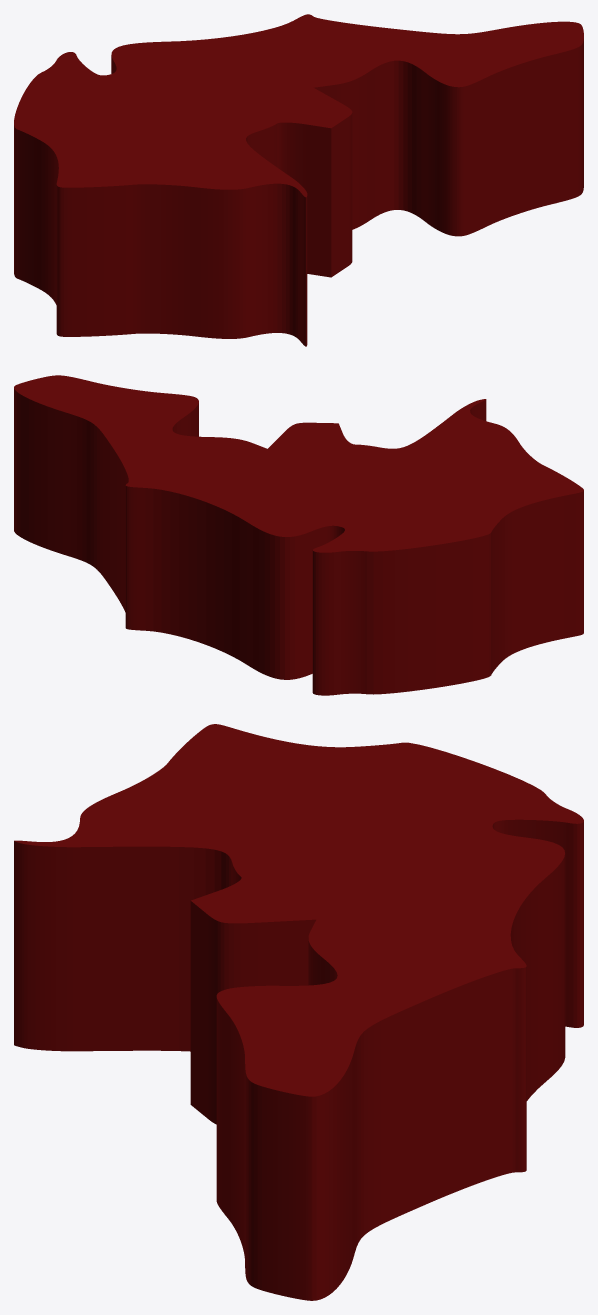
3 renders of one model, top to bottom at view 1: azimuth 30°, elevation 25°; view 2: azimuth 150°, elevation 25°; view 3: azimuth 270°, elevation 25°, orthographic. The views are drawn at different scales.
Parts seen in each view (by area): view 1: Curve.018_path4212; view 2: Curve.018_path4212; view 3: Curve.018_path4212.
Boxes of the visible parts, x1,y1,x2,y2 form: Curve.018_path4212: (14, 14, 583, 346); Curve.018_path4212: (14, 375, 583, 695); Curve.018_path4212: (14, 724, 583, 1300).
Size of the model in its own units: 0.3915 by 0.1 by 0.2531.
